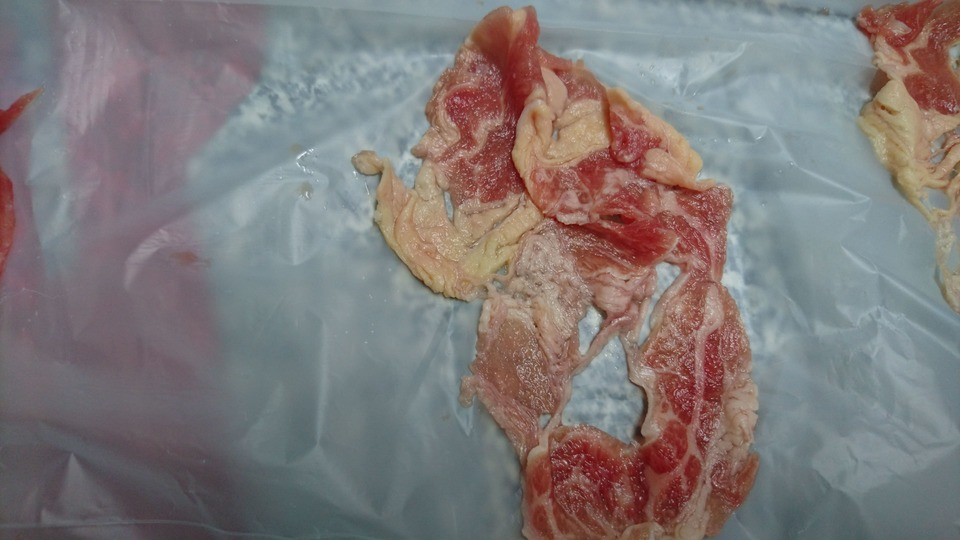restructured meat: (380, 24, 767, 531), (860, 11, 960, 275)
